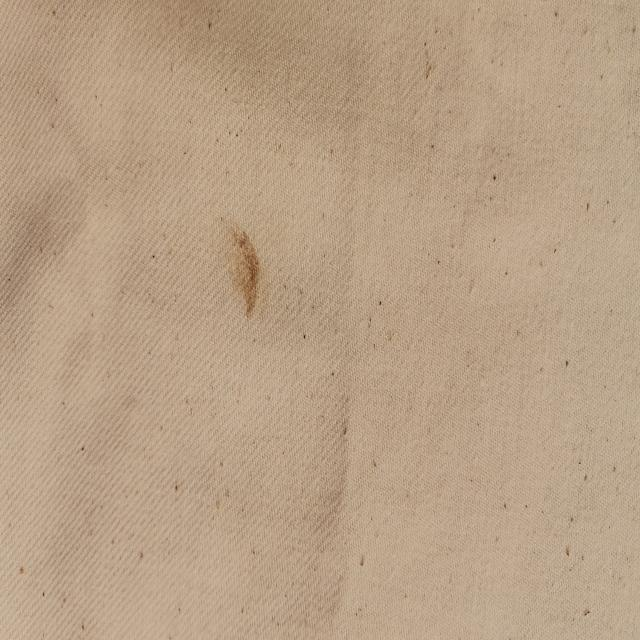taaaches: (228, 219, 262, 321)
